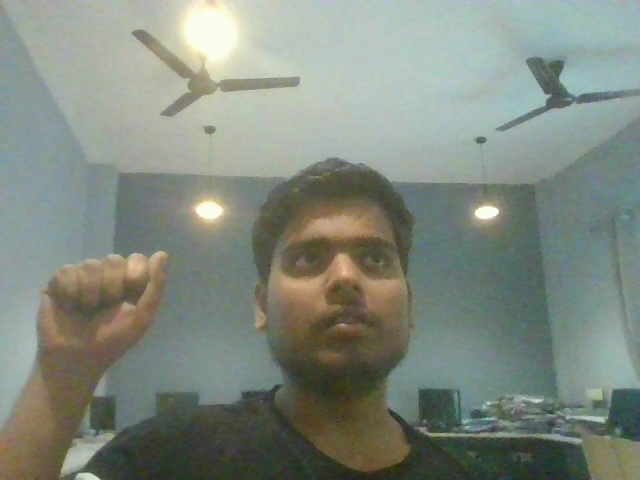A: (23, 221, 194, 380)
